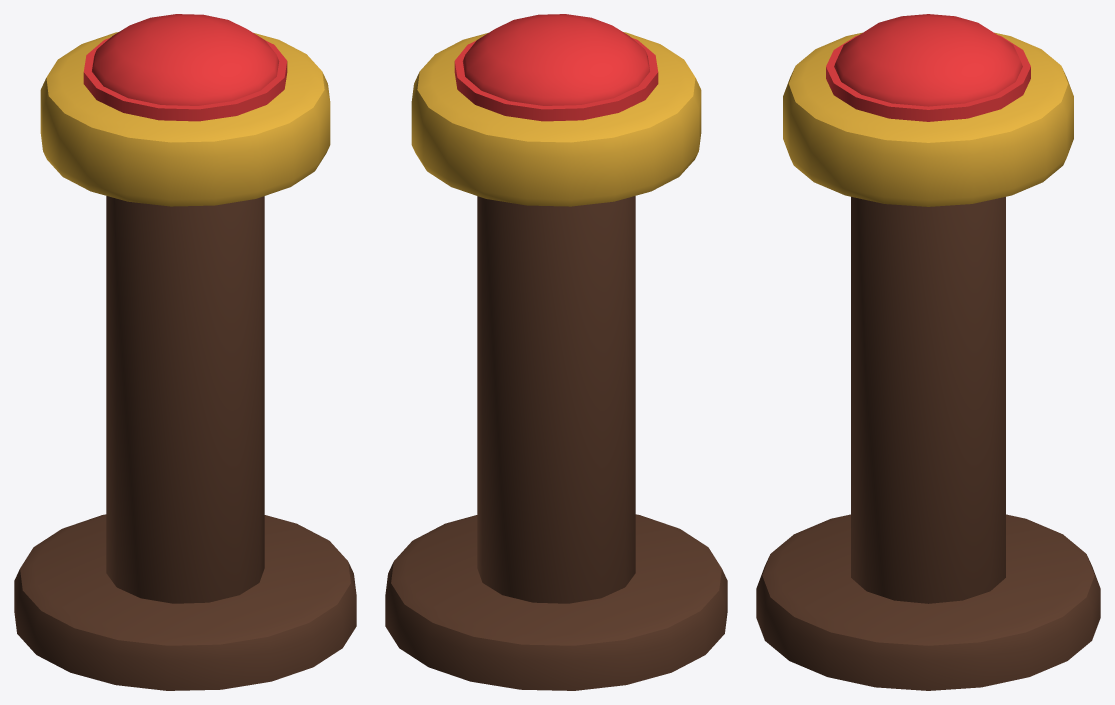
The model's file is toy_photo_button.glb.
The picture shows the model from 3 angles, left to right: view 1: azimuth 30°, elevation 25°; view 2: azimuth 150°, elevation 25°; view 3: azimuth 270°, elevation 25°; orthographic projection.
Visible parts, largest first — view 1: Pedestal, ButtonCap; view 2: Pedestal, ButtonCap; view 3: Pedestal, ButtonCap.
Boxes of the visible parts, x1,y1,x2,y2 form: Pedestal: [14, 32, 356, 690]; ButtonCap: [83, 14, 287, 121]; Pedestal: [385, 32, 727, 690]; ButtonCap: [454, 14, 658, 121]; Pedestal: [756, 32, 1100, 690]; ButtonCap: [826, 14, 1030, 121].
Size of the model in its own units: 0.52 by 0.9825 by 0.52.
